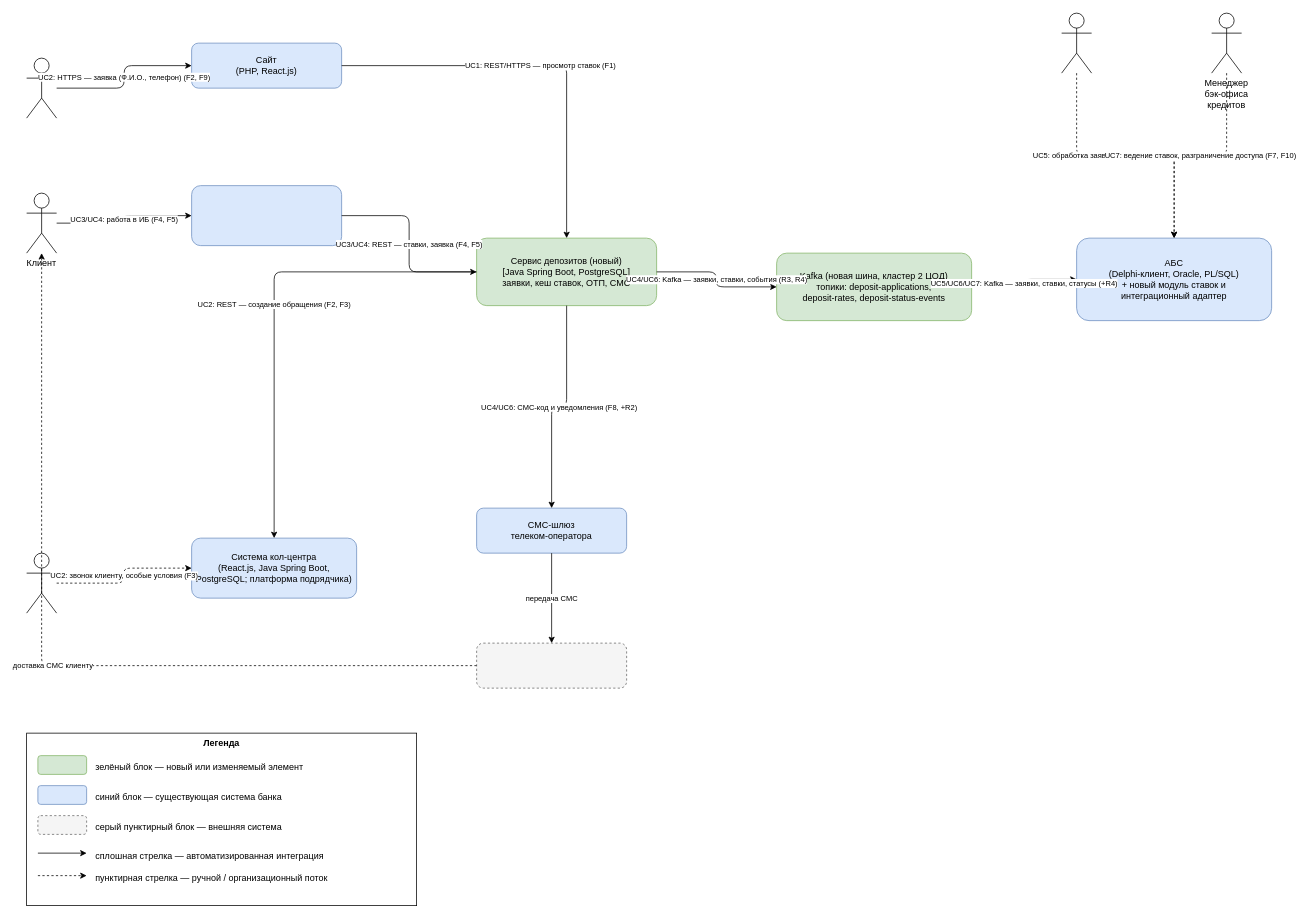
This 1309x919 diagram has some shape labels left out. Each missing label, with the centre of its shape:
"Интернет-банк (ASP.NET MVC 4.5, MS SQL; + новый модуль депозитов)" belongs at (x=266, y=215).
"Менеджер бэк-офиса депозитов" belongs at (x=1076, y=42).
"Новый клиент" belongs at (x=41, y=87).
"Оператор кол-центра" belongs at (x=41, y=582).
"Телеком-оператор (внешний)" belongs at (x=551, y=665).
